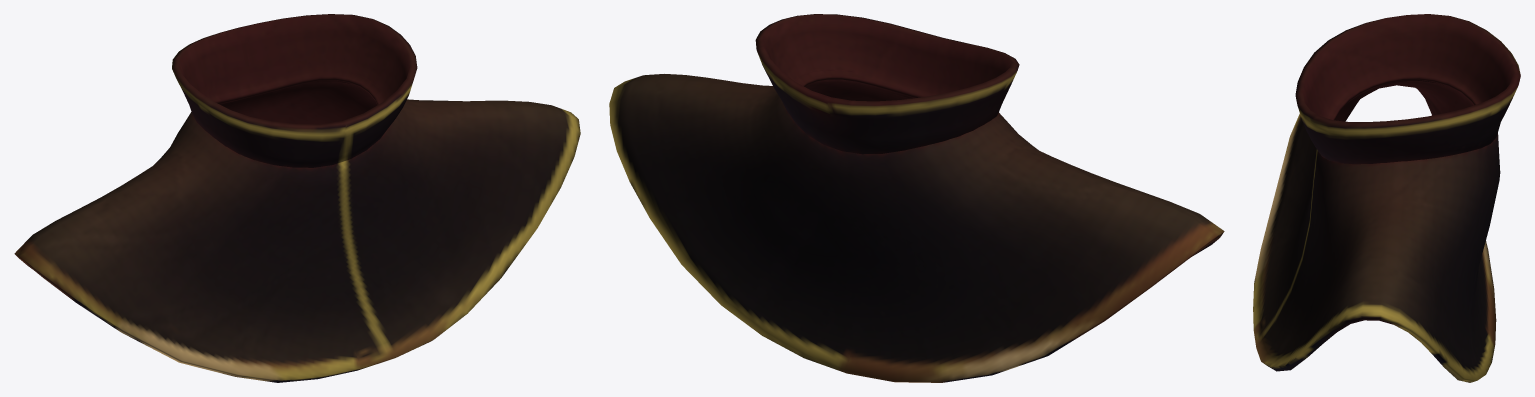
Rendered from Character_MC_top.glb.
3 views of the same model, side by side, from view 1: azimuth 30°, elevation 25°; view 2: azimuth 150°, elevation 25°; view 3: azimuth 270°, elevation 25° (orthographic). The views are drawn at different scales.
Visible parts, largest first — view 1: Top; view 2: Top; view 3: Top.
Part boxes in pixels (x1,y1,x2,y2): Top: (14,14,580,382); Top: (609,14,1224,382); Top: (1253,14,1520,382).
Bounding box in the file's own units: 3.19 × 1.5 × 1.28.
Materials: 1 (1 with a texture image).
